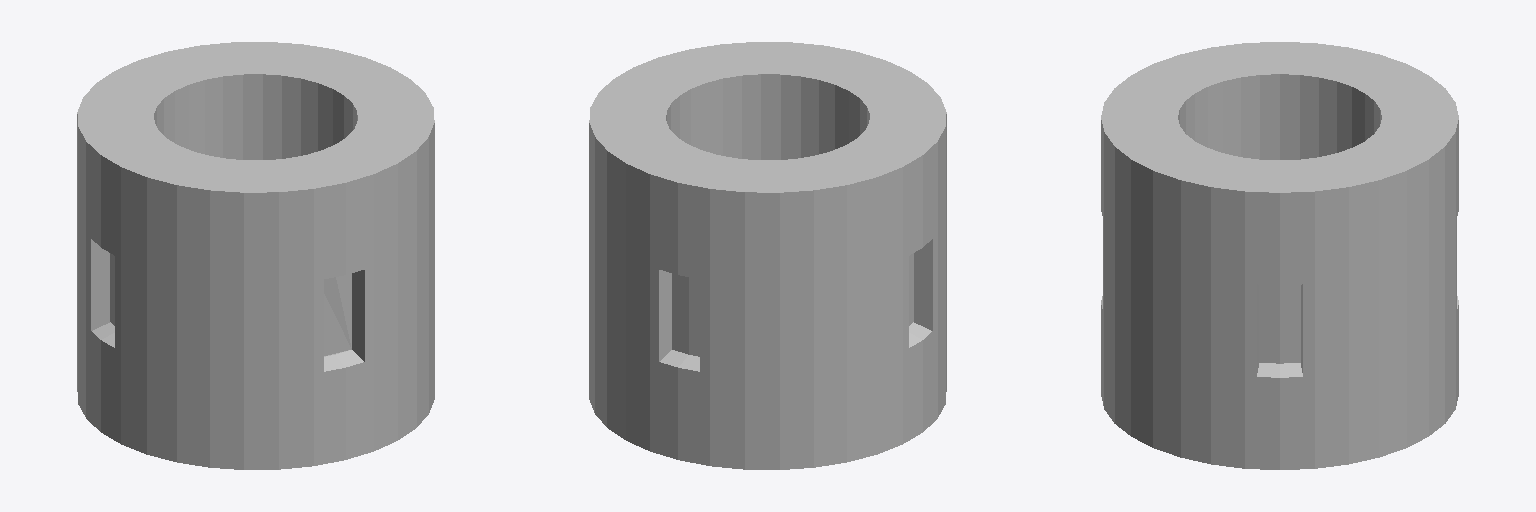
The model's file is BF_KOC_Gun.obj.
3 views of the same model, side by side, from view 1: azimuth 30°, elevation 25°; view 2: azimuth 150°, elevation 25°; view 3: azimuth 270°, elevation 25° (orthographic).
Parts seen in each view (by area): view 1: Cylinder.031; view 2: Cylinder.031; view 3: Cylinder.031.
Part boxes in pixels (x1,y1,x2,y2): Cylinder.031: (77, 42, 434, 469); Cylinder.031: (589, 42, 946, 469); Cylinder.031: (1101, 42, 1458, 469).
Size of the model in its own units: 2.34 by 2 by 2.34.